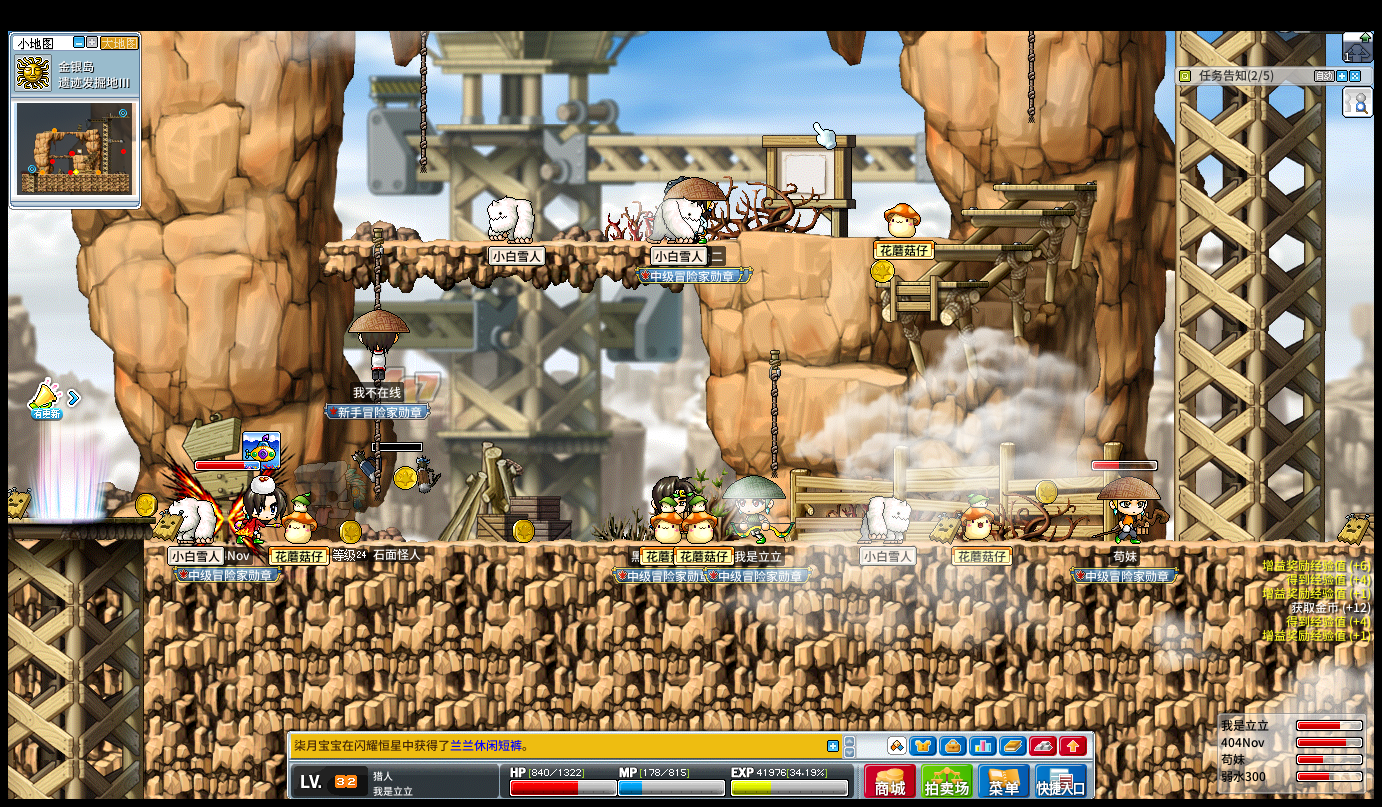floor: (322, 238, 700, 248), (798, 364, 907, 383), (2, 516, 154, 525), (817, 232, 959, 240), (17, 515, 153, 523), (870, 279, 985, 288), (992, 184, 1095, 192), (958, 207, 1070, 214), (923, 243, 1030, 250)
rope: (766, 350, 779, 479), (419, 30, 427, 166), (370, 226, 382, 310), (1025, 29, 1034, 121)
